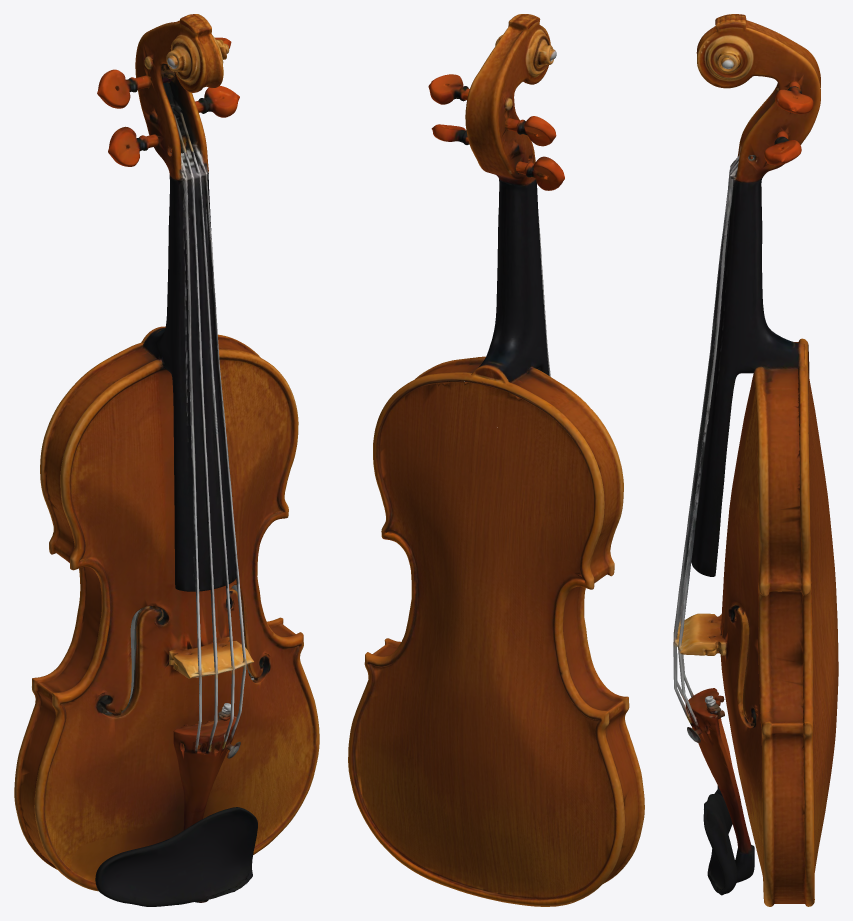
File: violino.glb
3 views of the same model, side by side, from view 1: azimuth 30°, elevation 25°; view 2: azimuth 150°, elevation 25°; view 3: azimuth 270°, elevation 25° (orthographic). The views are drawn at different scales.
Visible parts, largest first — view 1: tripo_node_906dd263-a474-4321-a969-8a9fb77505fe; view 2: tripo_node_906dd263-a474-4321-a969-8a9fb77505fe; view 3: tripo_node_906dd263-a474-4321-a969-8a9fb77505fe.
Boxes of the visible parts, <box> form: tripo_node_906dd263-a474-4321-a969-8a9fb77505fe: <box>14,14,319,906</box>; tripo_node_906dd263-a474-4321-a969-8a9fb77505fe: <box>348,14,644,906</box>; tripo_node_906dd263-a474-4321-a969-8a9fb77505fe: <box>673,14,838,906</box>.
Size of the model in its own units: 0.3308 by 0.98 by 0.1696.
1 material, 1 textured.
